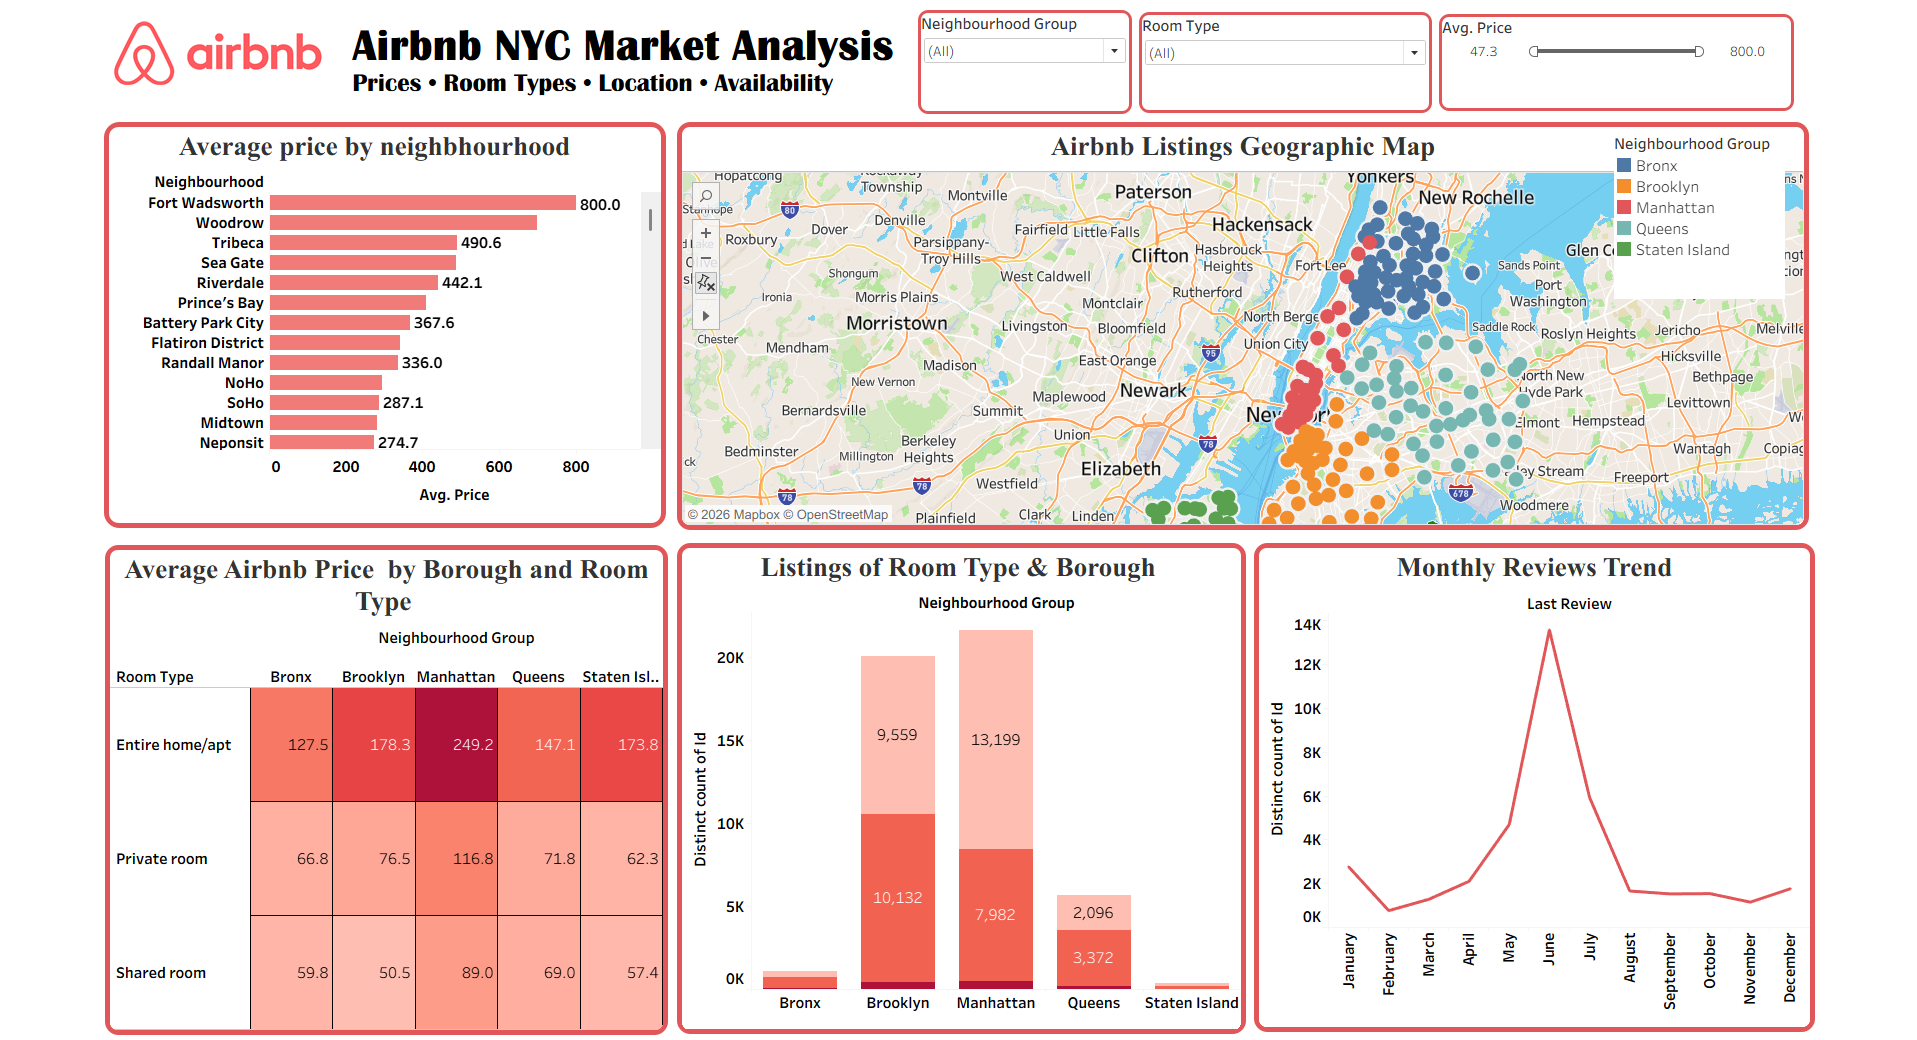

What the dashboard file says about the page in this screenshot:
{"tool":"tableau","page":{"name":"Room Type and Availability Insights","canvas":[1000,1000],"units":"permille","ordinal":0},"visuals":[{"type":"title","box":[144.8,3.4,329.1,107.3]},{"type":"filter","title":"Borough Room Type Heatmap","param":"[federated.0yqosaj09qjw3a1evqjjf0w76m0a].[none:neighbourhood_group:nk]","box":[475.6,10.1,124.4,99.4]},{"type":"filter","title":"Borough Room Type Heatmap","param":"[federated.0yqosaj09qjw3a1evqjjf0w76m0a].[none:room_type:nk]","box":[604.1,11.2,170.3,97.2]},{"type":"filter","title":"Average price by neighbhourhood","param":"[federated.0yqosaj09qjw3a1evqjjf0w76m0a].[avg:price:qk]","box":[778.5,13.4,206.4,92.7]},{"type":"image","param":"Image/images (1).png","box":[7.6,19.8,121.5,81.4]},{"type":"worksheet","title":"Average price by neighbhourhood","mark":"Automatic","rows":["neighbourhood"],"cols":["price"],"box":[2.3,117.3,326.7,388.8]},{"type":"worksheet","title":"Airbnb Listings Geographic Map","mark":"Pie","rows":["latitude"],"cols":["longitude"],"box":[335.5,117.3,658.1,391.1]},{"type":"legend","title":"Airbnb Listings Geographic Map","param":"[federated.0yqosaj09qjw3a1evqjjf0w76m0a].[none:neighbourhood_group:nk]","box":[787.8,177.7,99.4,159.8]},{"type":"worksheet","title":"Listings of room type and borough","mark":"Automatic","rows":["id"],"cols":["neighbourhood_group"],"box":[335.5,520.9,330.8,470.9]},{"type":"worksheet","title":"Monthly Reviews Trend","mark":"Line","rows":["id"],"cols":["last_review"],"box":[670.9,520.9,326.2,468.6]},{"type":"worksheet","title":"Borough Room Type Heatmap","mark":"Square","rows":["room_type"],"cols":["neighbourhood_group"],"box":[2.9,522.1,327.3,469.8]}]}

Visuals, with their boxes on the dashboard's canvas, which has no fixed pixel size, in thousandths of its width and height (x1, y1, x2, y2). These are canvas units, not pixel positions in the 1917x1040 screenshot, which may show the page scaled, cropped or inside an application window:
title: bbox=[145, 3, 474, 111]
"Borough Room Type Heatmap" filter: bbox=[476, 10, 600, 110]
"Borough Room Type Heatmap" filter: bbox=[604, 11, 774, 108]
"Average price by neighbhourhood" filter: bbox=[778, 13, 985, 106]
image: bbox=[8, 20, 129, 101]
"Average price by neighbhourhood" worksheet: bbox=[2, 117, 329, 506]
"Airbnb Listings Geographic Map" worksheet (Pie marks): bbox=[336, 117, 994, 508]
"Airbnb Listings Geographic Map" legend: bbox=[788, 178, 887, 338]
"Listings of room type and borough" worksheet: bbox=[336, 521, 666, 992]
"Monthly Reviews Trend" worksheet (Line marks): bbox=[671, 521, 997, 990]
"Borough Room Type Heatmap" worksheet (Square marks): bbox=[3, 522, 330, 992]
